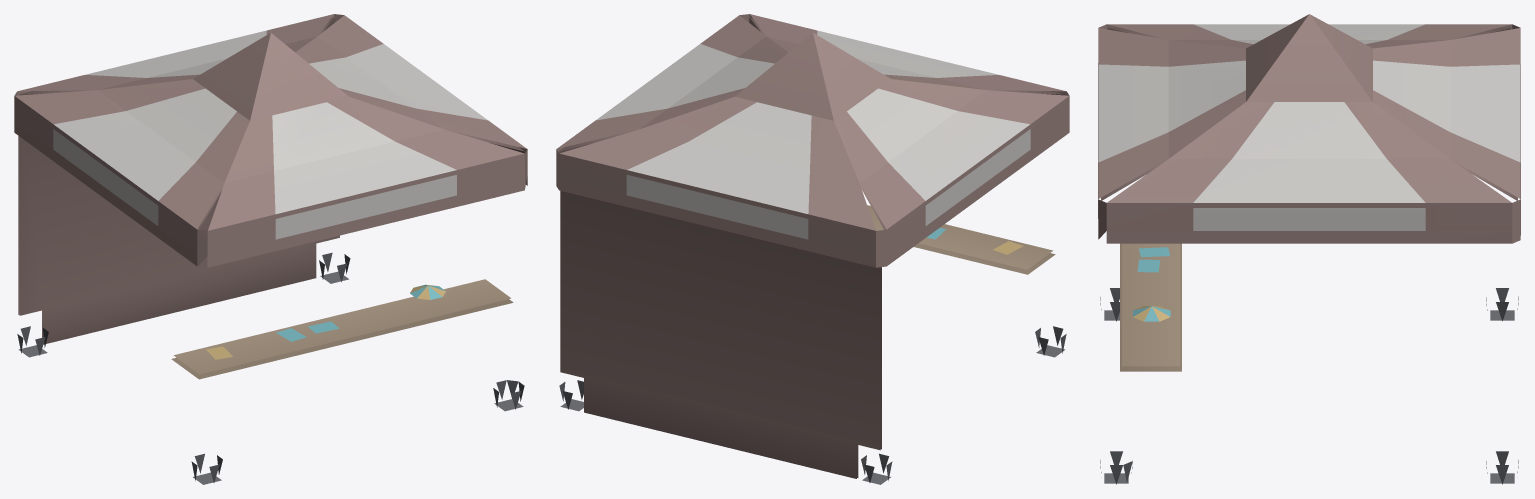
The model's file is stall.lod.glb.
3 renders of one model, left to right at view 1: azimuth 30°, elevation 25°; view 2: azimuth 150°, elevation 25°; view 3: azimuth 270°, elevation 25°, orthographic. The views are drawn at different scales.
Visible parts, largest first — view 1: stall.001; view 2: stall.001; view 3: stall.001.
Part boxes in pixels (x1,y1,x2,y2): stall.001: (14, 14, 527, 484); stall.001: (556, 14, 1069, 484); stall.001: (1098, 14, 1520, 484).
Bounding box in the file's own units: 3 × 3 × 3.
